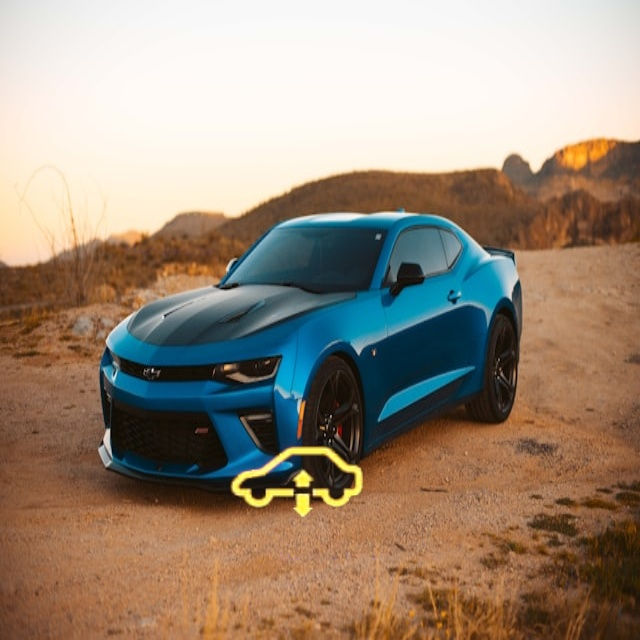symbol: (210, 398, 384, 572), (65, 109, 219, 263), (110, 35, 237, 162)
